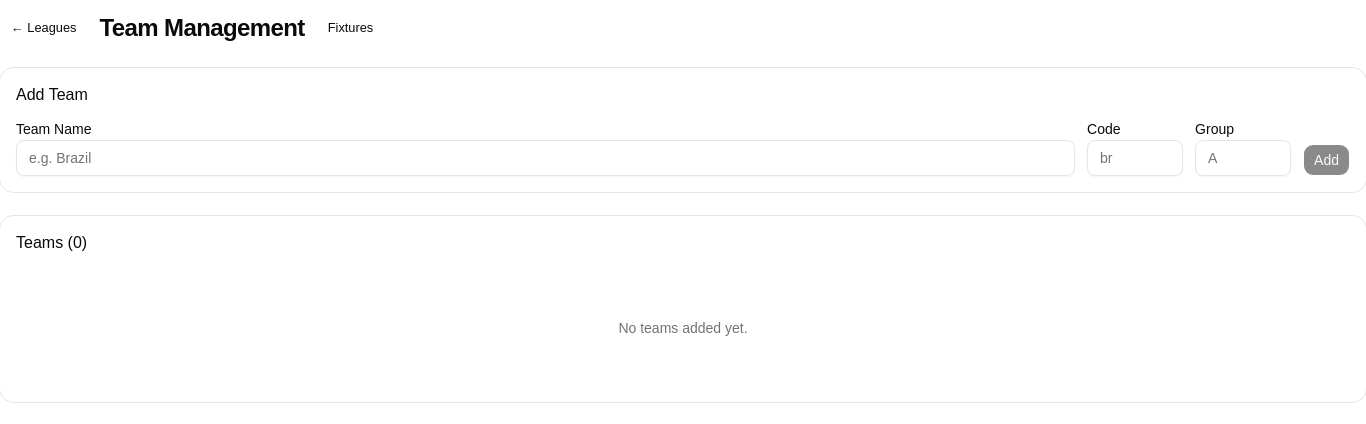
Test: AdminTeamsPage › shows autocomplete suggestions when typing team name
This screenshot has width=1366, height=424.
In the field with placeholder "e.g. Brazil": (546, 158) [16,140,1075,176], type "Bra"
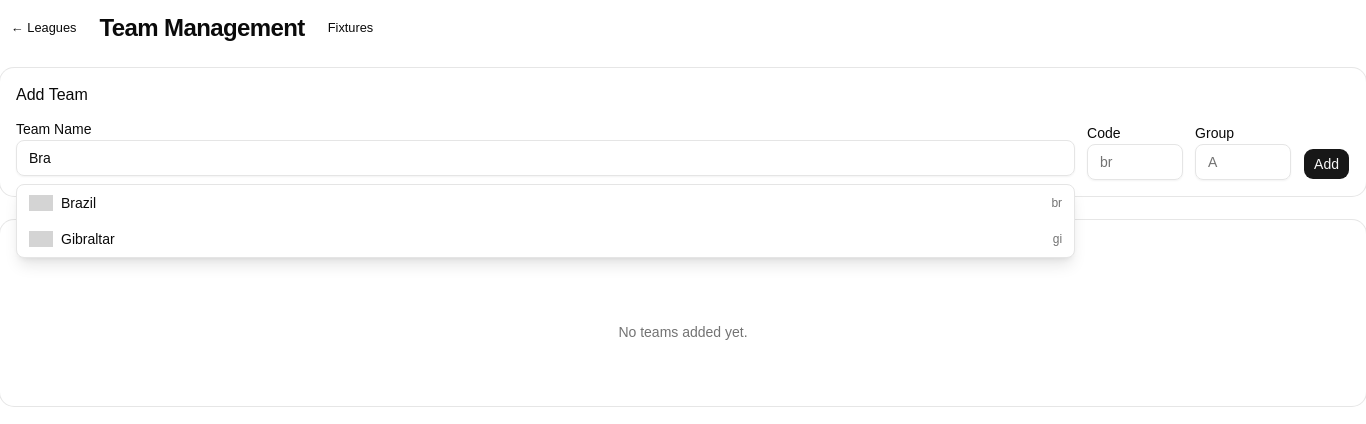
Result: the text "Brazil" is shown at [61,193,96,213]
